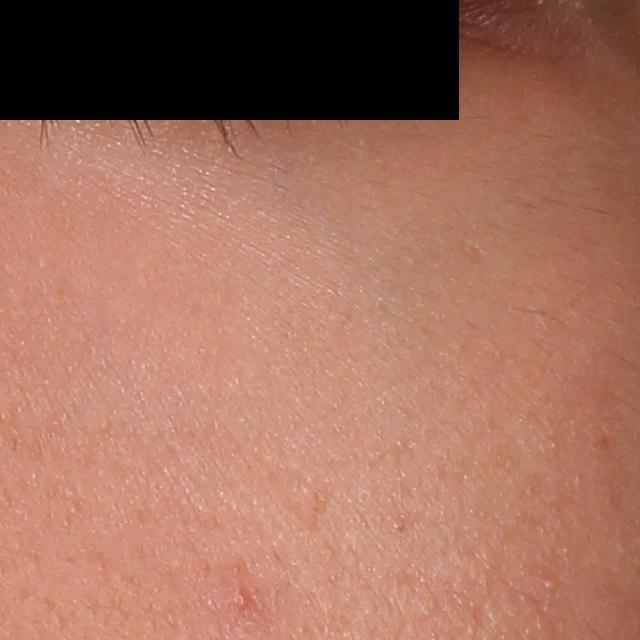papule: (225, 582, 254, 611)
